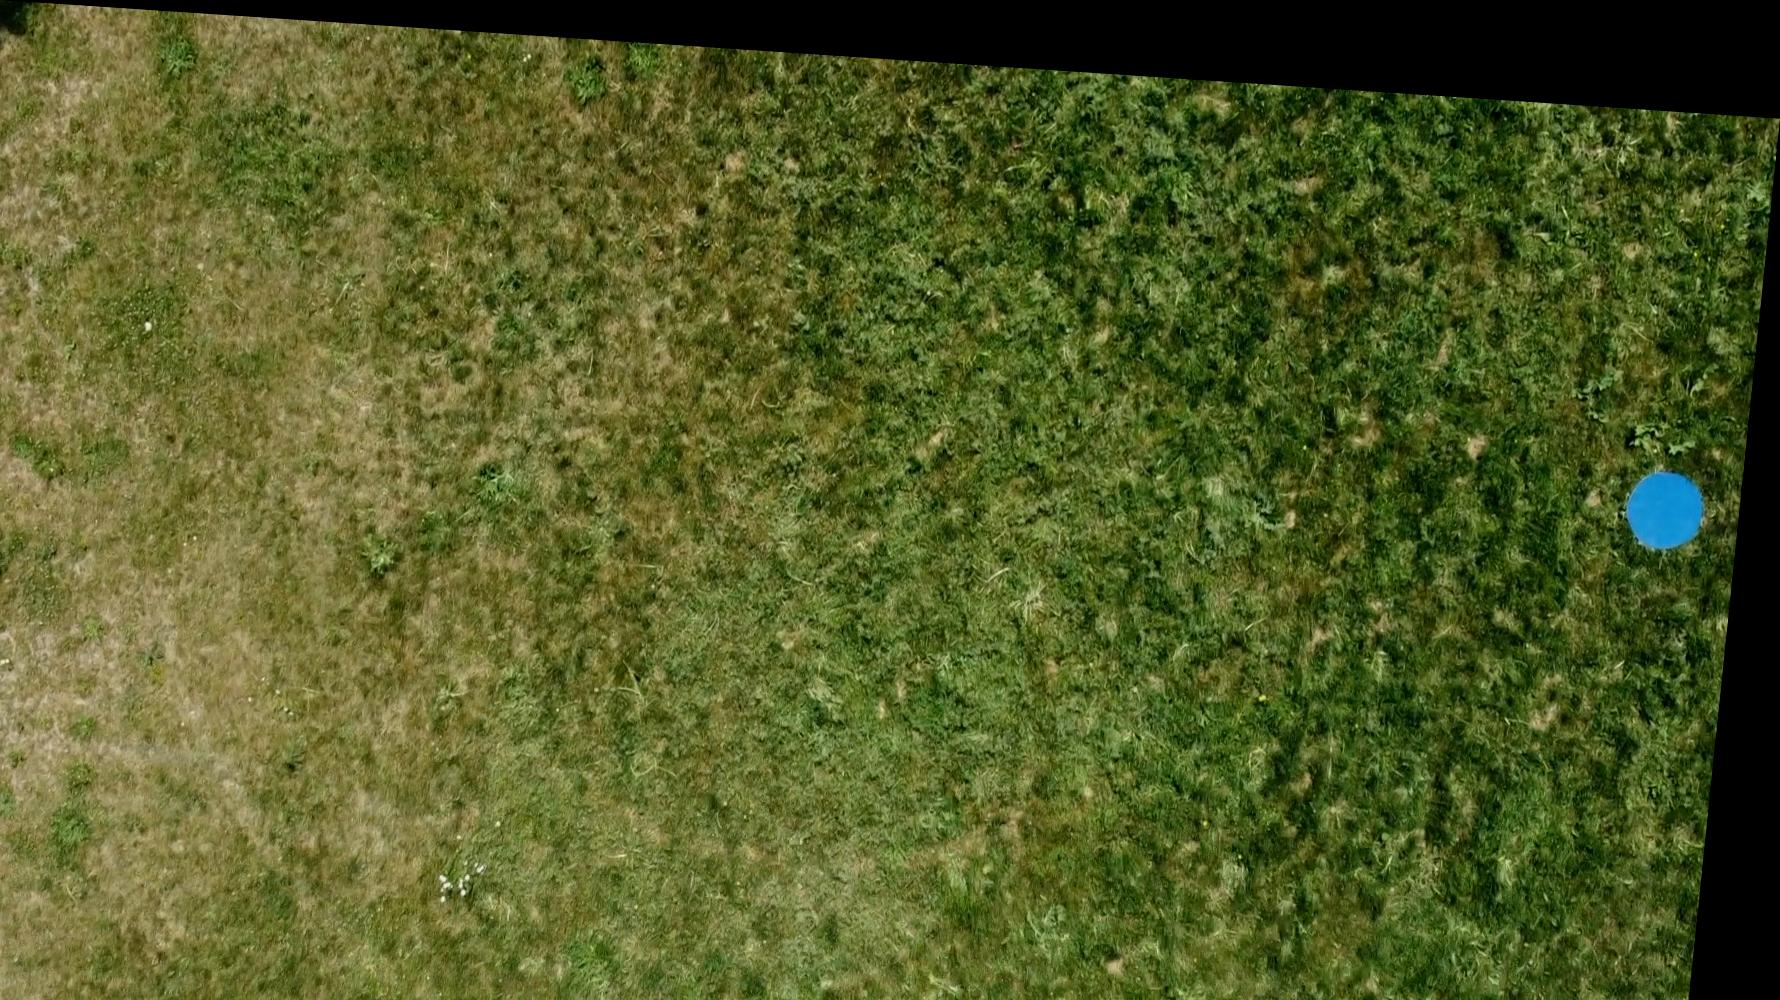Blue: (1630, 444, 1720, 531)
